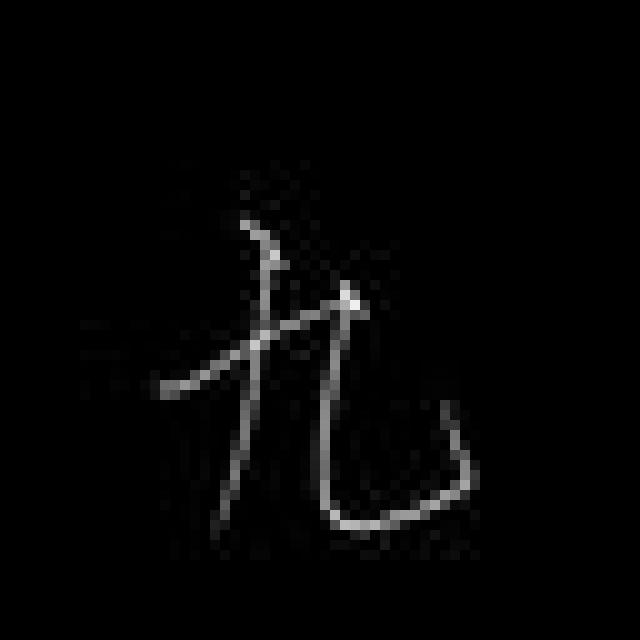9 -nine-: (151, 214, 489, 546)
